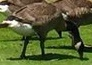goose: (1, 1, 87, 65)
